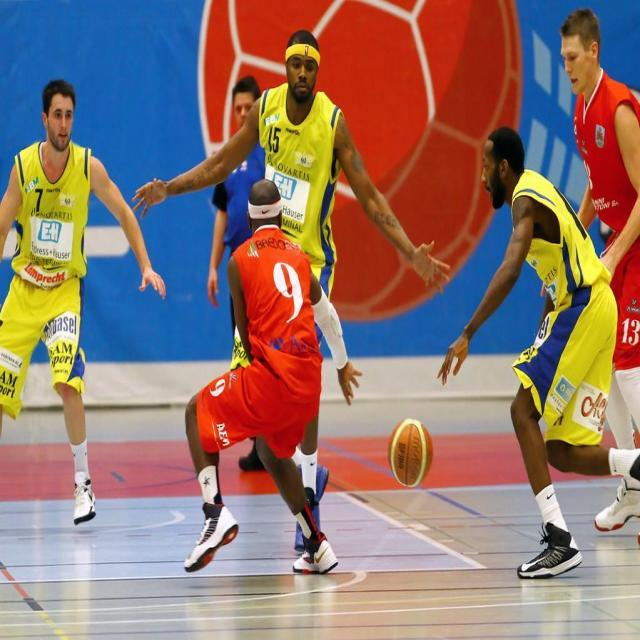rim: (388, 416, 434, 488)
